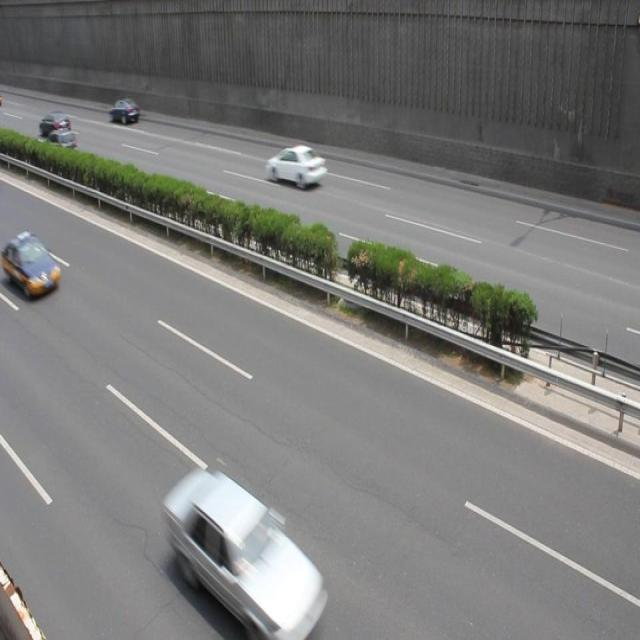car: (164, 468, 324, 633), (1, 230, 61, 301), (265, 143, 327, 190), (44, 128, 77, 160), (108, 97, 140, 126), (39, 111, 71, 138)
